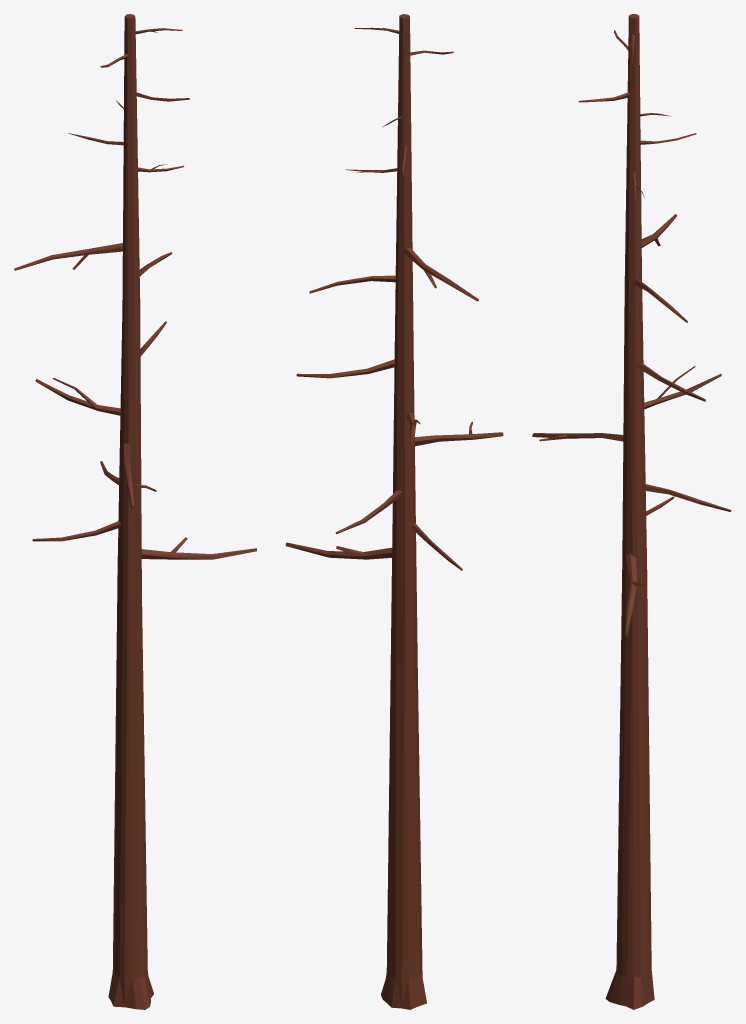
File: pine_dead_type_1_LOD1.fbx
3 views of the same model, side by side, from view 1: azimuth 30°, elevation 25°; view 2: azimuth 150°, elevation 25°; view 3: azimuth 270°, elevation 25° (orthographic).
Parts seen in each view (by area): view 1: pine_trunk.010; view 2: pine_trunk.010; view 3: pine_trunk.010.
Boxes of the visible parts, x1,y1,x2,y2 form: pine_trunk.010: (14,14,256,1009); pine_trunk.010: (285,14,503,1009); pine_trunk.010: (532,14,731,1009).
Size of the model in its own units: 664 by 2872 by 528.
